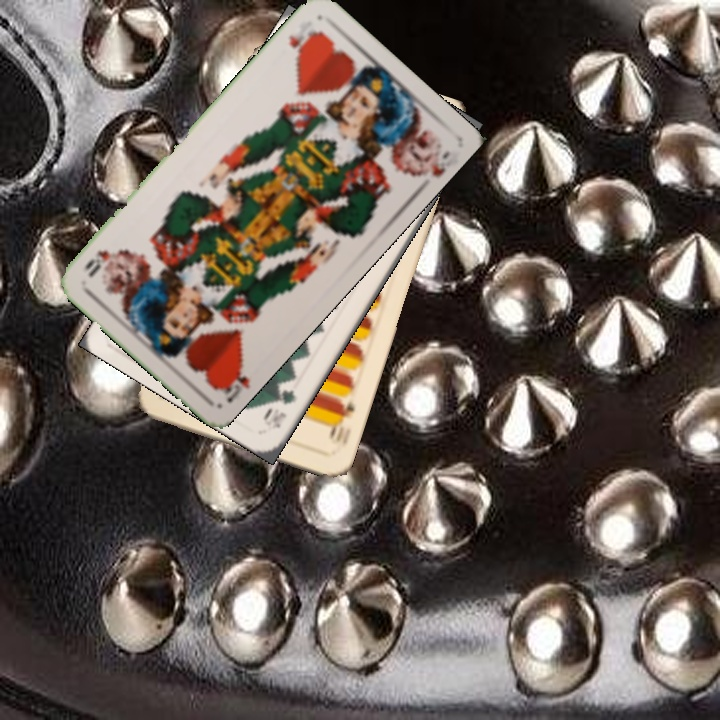E10: (325, 395, 357, 447)
G10: (265, 385, 299, 433)
HO: (212, 355, 252, 406), (284, 16, 323, 62)
